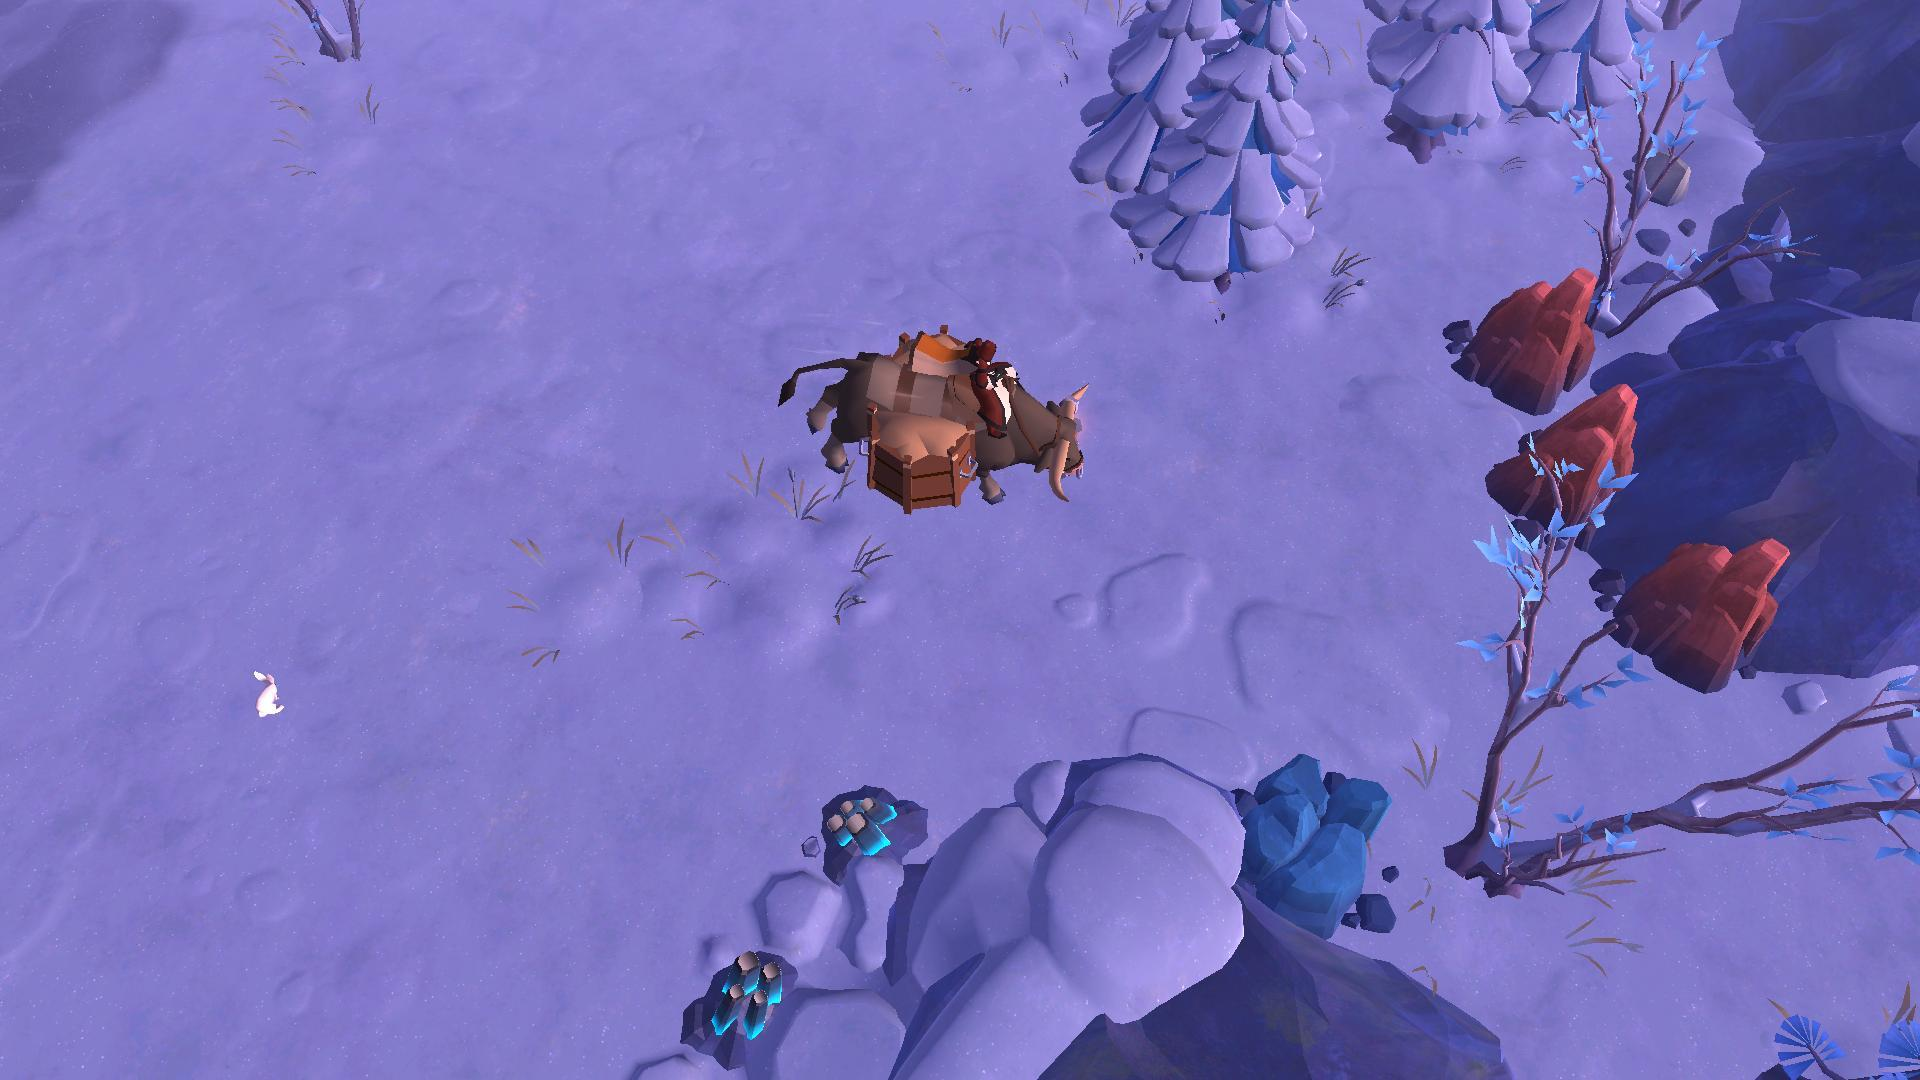ore_t4: (703, 943, 783, 1044), (818, 789, 901, 860)
rock_t4: (1238, 746, 1400, 934)
rock_t5: (1600, 533, 1789, 692), (1494, 384, 1643, 541), (1447, 256, 1596, 407)
